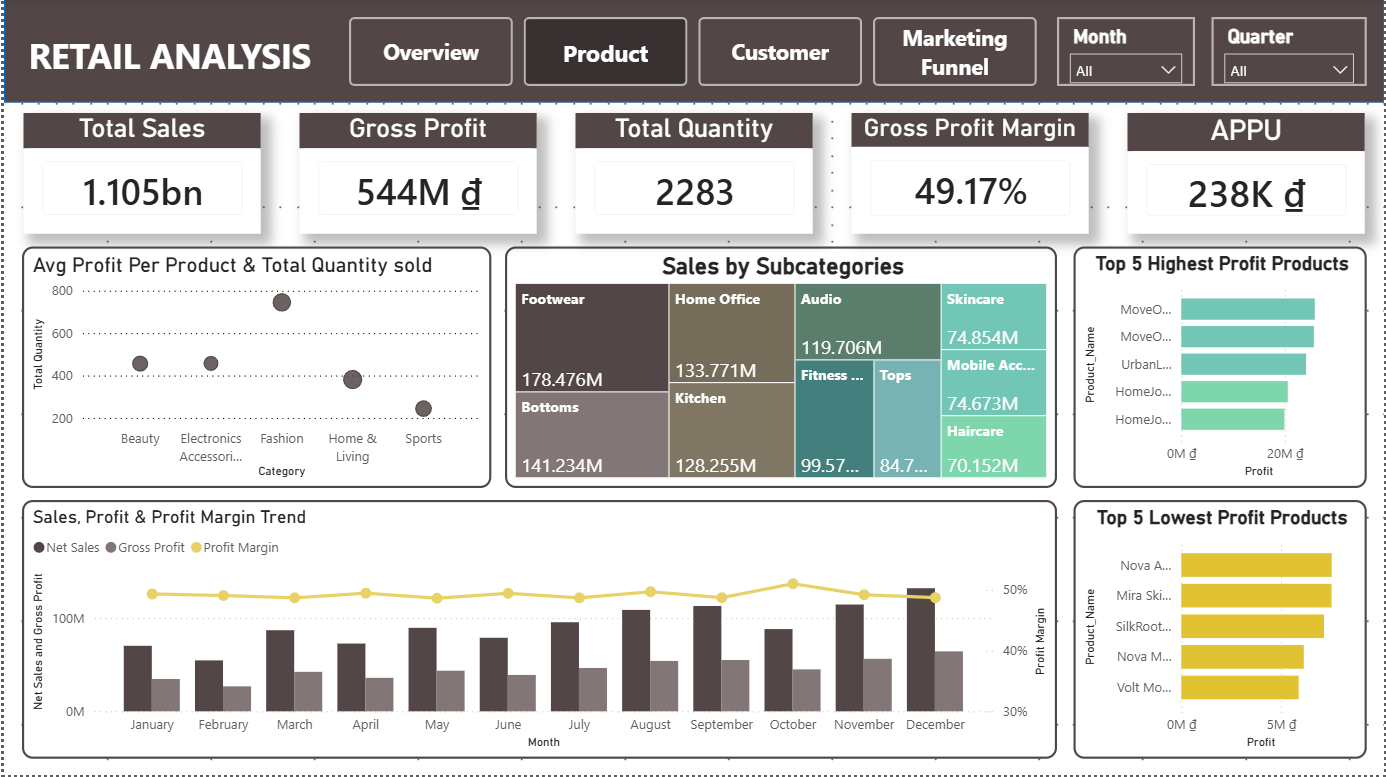

What the dashboard file says about the page in this screenshot:
{"tool":"powerbi","page":{"name":"Product","canvas":[1280,720],"ordinal":1},"visuals":[{"type":"treemap","title":"Sales by Subcategories","fields":{"Group":["Products.Subcategory"],"Values":["Sum(Sales.Net Sales)"]},"box":[464,229,512,224],"z":0},{"type":"textbox","box":[306.6,0,665.6,77],"z":1000},{"type":"shape","box":[0,0,1280,96],"z":2000},{"type":"pageNavigator","box":[320,16,640,64],"z":3000},{"type":"cardVisual","title":"Total Sales","fields":{"Data":["Sum(Sales.Net_Sales)"]},"box":[17.8,105.7,220,112],"z":4000},{"type":"cardVisual","title":"Gross Profit","fields":{"Data":["Sum(Sales.Gross_Profit)"]},"box":[273.8,105.7,220,112],"z":5000},{"type":"cardVisual","title":"Total Quantity","fields":{"Data":["Sum(Sales.Quantity)"]},"box":[529.8,105.7,220,112],"z":6000},{"type":"cardVisual","title":"APPU","fields":{"Data":["Sales.APPU"]},"box":[1041.8,105.7,220,112],"z":7000},{"type":"cardVisual","title":"Gross Profit Margin","fields":{"Data":["Sales.Profit Margin"]},"box":[785.8,105.7,220,112],"z":8000},{"type":"scatterChart","title":"Avg Profit Per Product & Total Quantity sold","fields":{"X":["Products.Category"],"Y":["Sum(Sales.Quantity)"],"Size":["Sales.APPU"]},"box":[16,229,435,224],"z":9000},{"type":"lineClusteredColumnComboChart","title":"Sales, Profit & Profit Margin Trend","fields":{"Y":["Sum(Sales.Net Sales)","Sum(Sales.Gross Profit)"],"Category":["DimDate.Month"],"Y2":["Sales.Profit Margin"]},"box":[16,464,960,240],"z":10000},{"type":"slicer","fields":{"Values":["DimDate.Month"]},"box":[976,16,128,64],"z":11000},{"type":"textbox","box":[0,25,304,96],"z":12000},{"type":"barChart","title":"Top 5 Lowest Profit Products","fields":{"Category":["Products.Product_Name"],"Y":["Sum(Sales.Gross Profit)"]},"box":[992,464,272,240],"z":13000},{"type":"barChart","title":"Top 5 Highest Profit Products","fields":{"Category":["Products.Product_Name"],"Y":["Sum(Sales.Gross Profit)"]},"box":[992,229,272,224],"z":14000},{"type":"slicer","title":"fyr","fields":{"Values":["DimDate.Quarter"]},"box":[1120,16,144,64],"z":15000}]}

Visuals, with their boxes in screenshot pixels (x1, y1, x2, y2), scaled from the page's 1280x720 canvas onto the 1386x777 screenshot:
"Sales by Subcategories" treemap: [left=502, top=247, right=1057, bottom=489]
textbox: [left=332, top=0, right=1053, bottom=83]
shape: [left=0, top=0, right=1385, bottom=104]
pageNavigator: [left=346, top=17, right=1040, bottom=86]
"Total Sales" cardVisual: [left=19, top=114, right=257, bottom=235]
"Gross Profit" cardVisual: [left=296, top=114, right=535, bottom=235]
"Total Quantity" cardVisual: [left=574, top=114, right=812, bottom=235]
"APPU" cardVisual: [left=1128, top=114, right=1366, bottom=235]
"Gross Profit Margin" cardVisual: [left=851, top=114, right=1089, bottom=235]
"Avg Profit Per Product & Total Quantity sold" scatterChart: [left=17, top=247, right=488, bottom=489]
"Sales, Profit & Profit Margin Trend" lineClusteredColumnComboChart: [left=17, top=501, right=1057, bottom=760]
slicer - DimDate.Month: [left=1057, top=17, right=1195, bottom=86]
textbox: [left=0, top=27, right=329, bottom=131]
"Top 5 Lowest Profit Products" barChart: [left=1074, top=501, right=1369, bottom=760]
"Top 5 Highest Profit Products" barChart: [left=1074, top=247, right=1369, bottom=489]
"fyr" slicer: [left=1213, top=17, right=1369, bottom=86]
